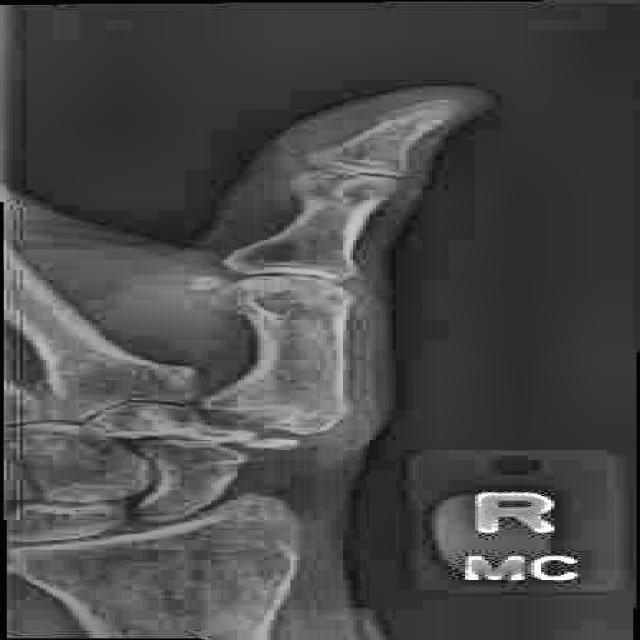fingers positive: (177, 392, 354, 461), (248, 156, 406, 228)
